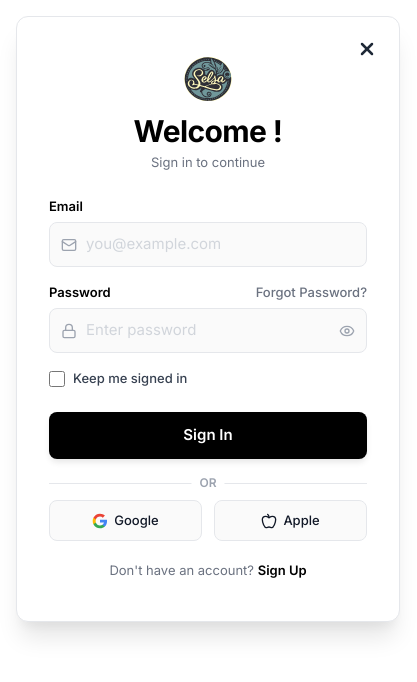
Test case: LoginForm › validation › shows "Password is required" when email is valid but password empty
Type "test@example.com" into the field with placeholder "you@example.com" at (208, 245), box left=49, top=222, right=367, bottom=267
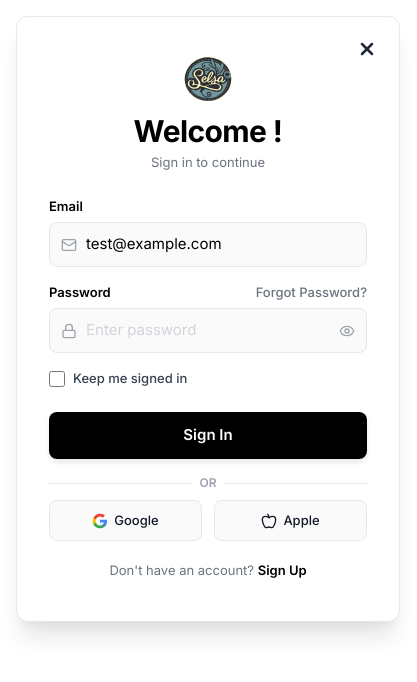
Click the button "Sign In" at (208, 436), box left=49, top=412, right=367, bottom=459
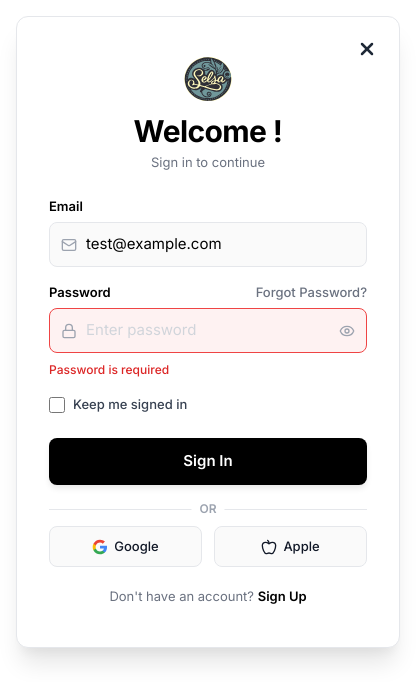
Expected: the text "Password is required" is shown, left=49, top=362, right=169, bottom=377
